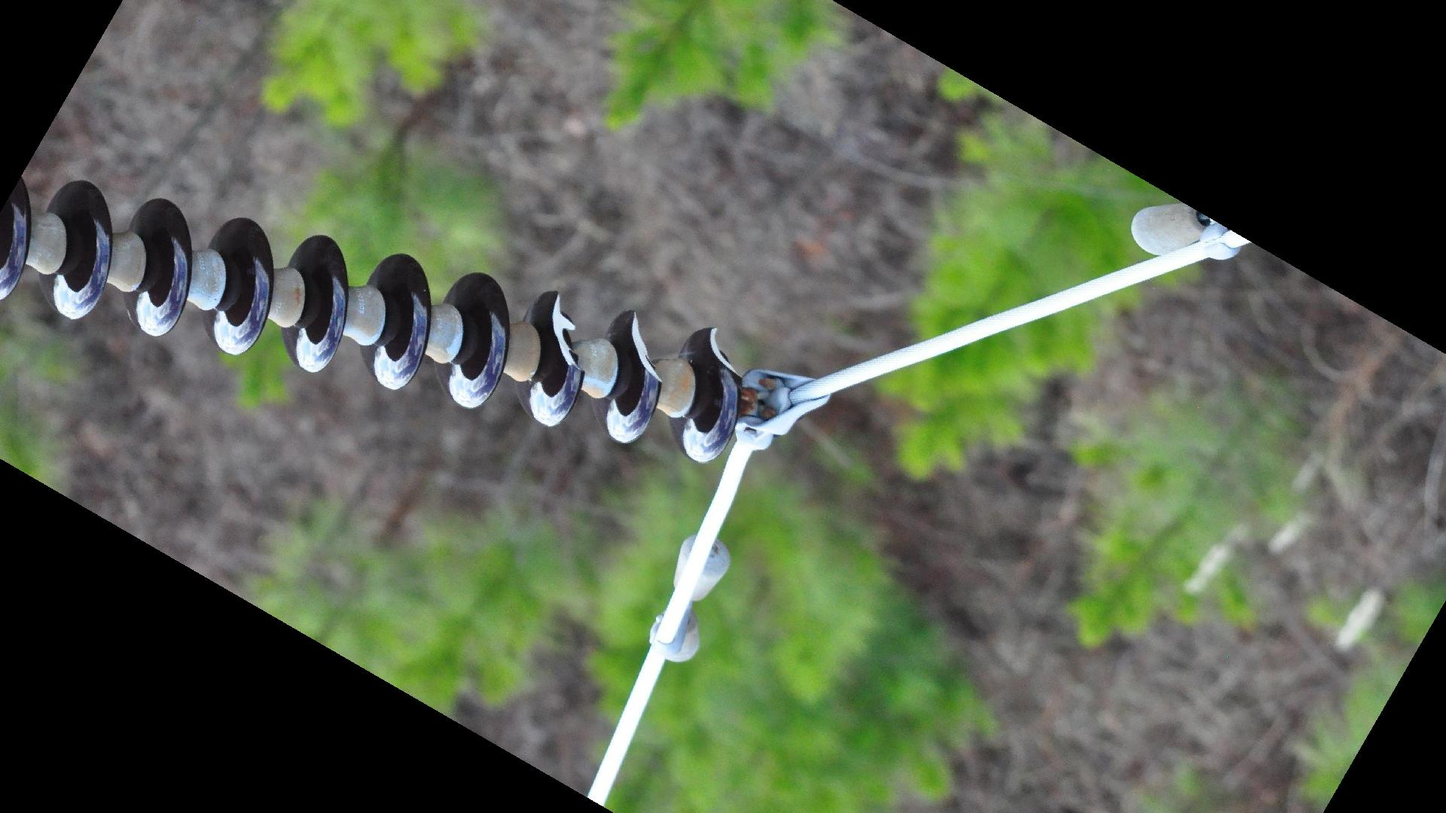insulator: (1, 166, 748, 472)
insulator_breakage: (545, 286, 588, 382), (624, 306, 668, 391), (701, 321, 744, 382)
